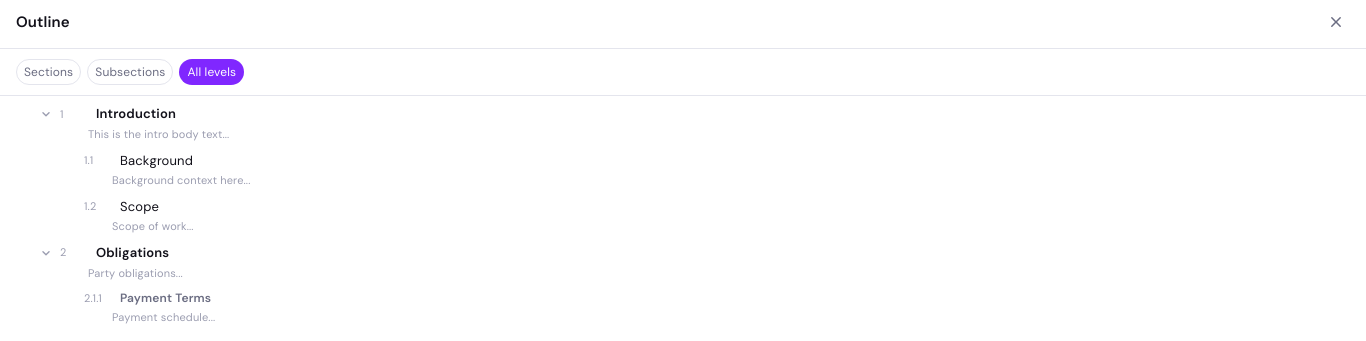
Test: OutlineView › clicking "Sections" chip filters to H1 entries only
Click the button "Sections" at point(49, 72), box [16,59,81,85]
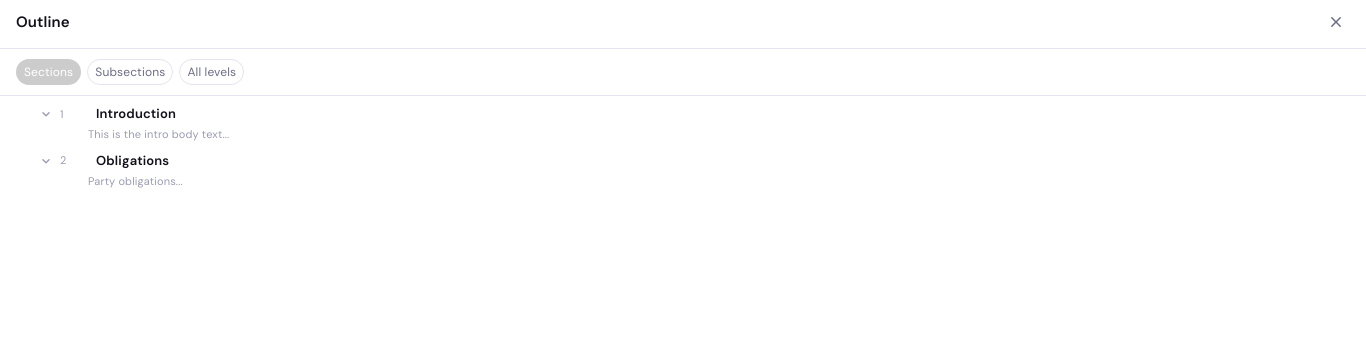
Check: the text "Background" is gone
Check: the text "Scope" is gone
Check: the text "Payment Terms" is gone
